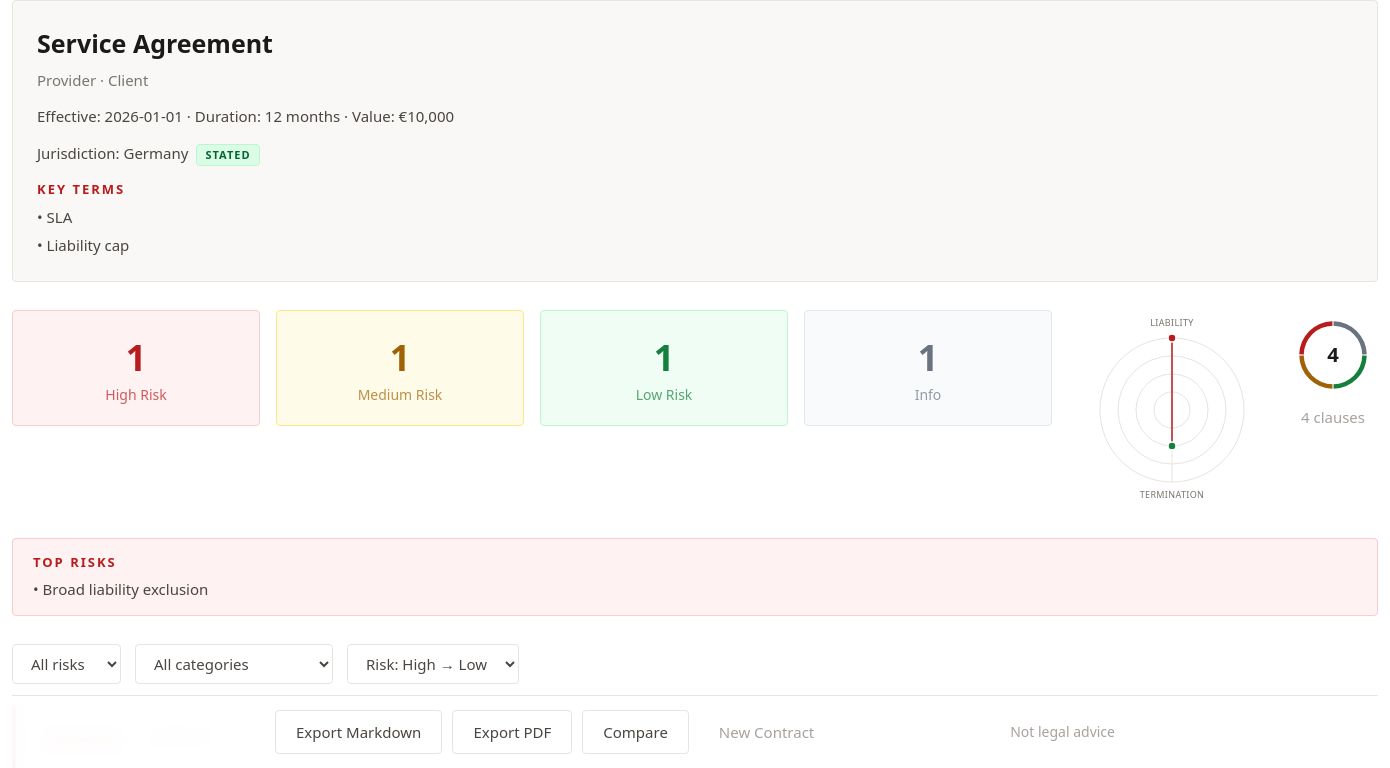
Test: ReportView — chart ↔ pill ↔ dropdown synchronisation › (f) Dropdown change → pill appears with correct label
Select "High" in the dropdown named "filter by risk" at coordinates (66, 664), box x1=12 y1=644 x2=121 y2=684
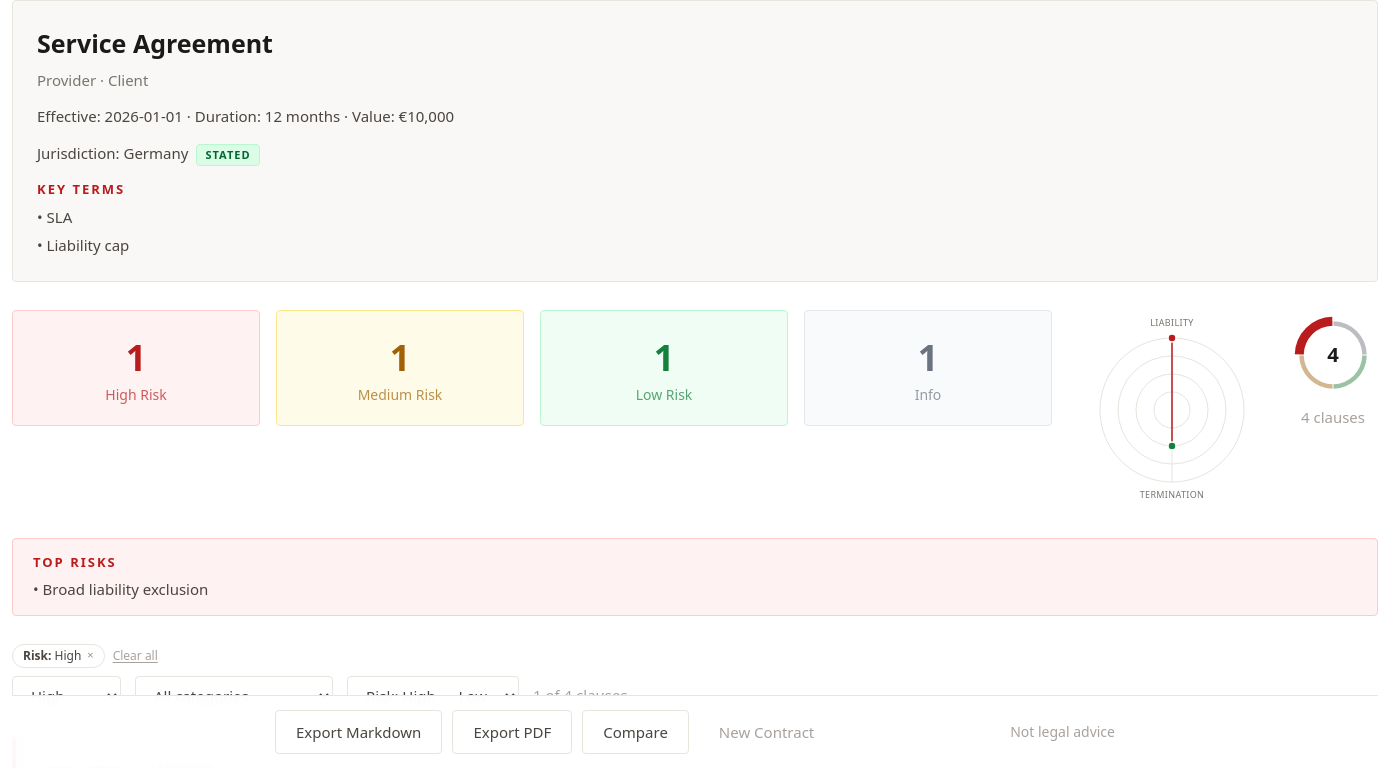
Now the button "Risk: High ×" is shown, box x1=12 y1=644 x2=105 y2=668
